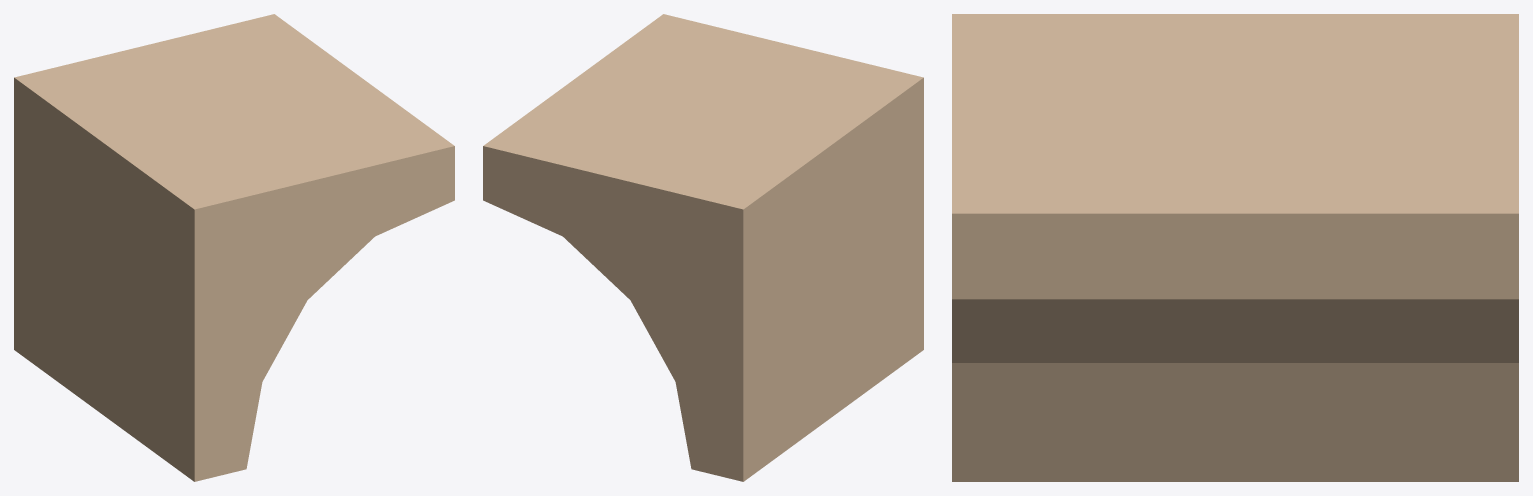
The model's file is Wall_Straight_Arch_Top.fbx.
3 renders of one model, left to right at view 1: azimuth 30°, elevation 25°; view 2: azimuth 150°, elevation 25°; view 3: azimuth 270°, elevation 25°, orthographic. The views are drawn at different scales.
Visible parts, largest first — view 1: object1; view 2: object1; view 3: object1.
Boxes of the visible parts, left/top/right/bottom form: object1: left=14, top=14, right=454, bottom=481; object1: left=483, top=14, right=923, bottom=481; object1: left=952, top=14, right=1518, bottom=481.
Bounding box in the file's own units: 1 × 1 × 1.2.
